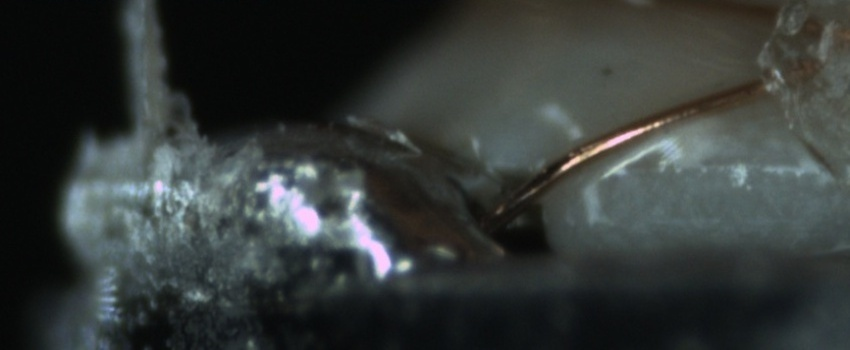DL: (684, 139, 849, 196)
